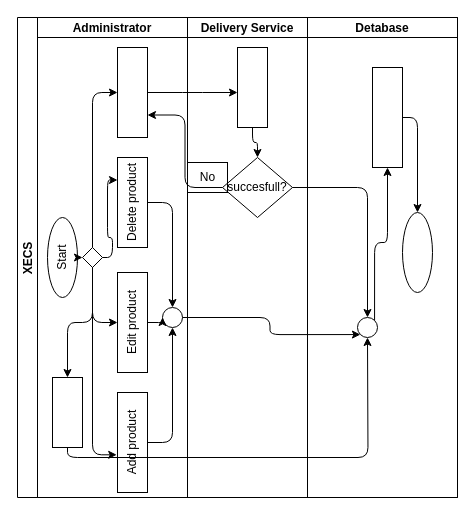
Some shapes in this 475 by 515 pixel diagram are drawn without their labels. The shapes that lost their labels are listed below. From the top down, each one's centre as x and y in pixels, then its label:
At pixel 132 92: "Process Order".
At pixel 252 87: "Product Delivery".
At pixel 387 117: "Store In Database".
At pixel 417 252: "End".
At pixel 67 412: "View product".
